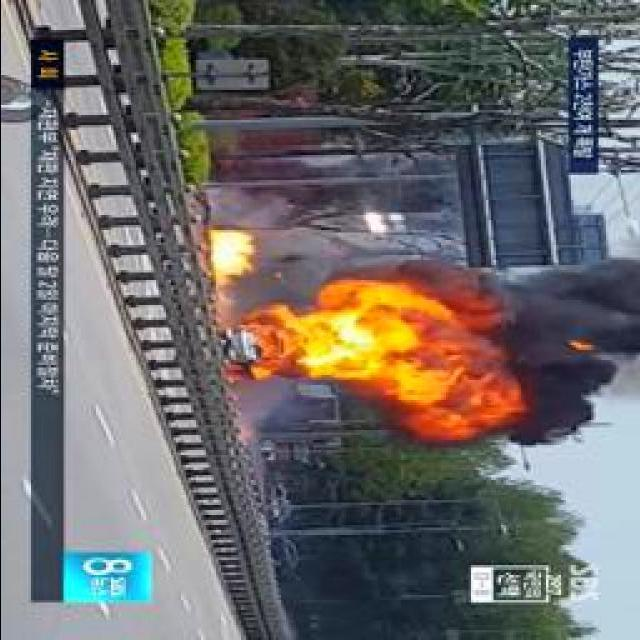Fire: (223, 288, 465, 394), (210, 227, 250, 276)
